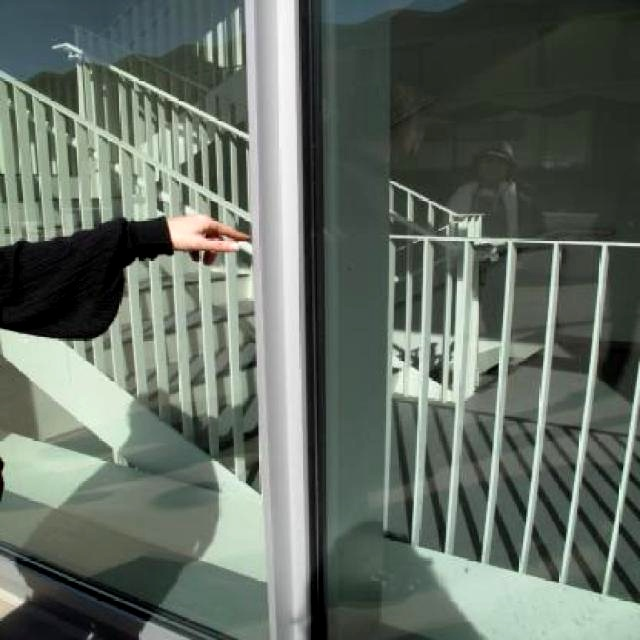stair: (0, 172, 400, 451)
